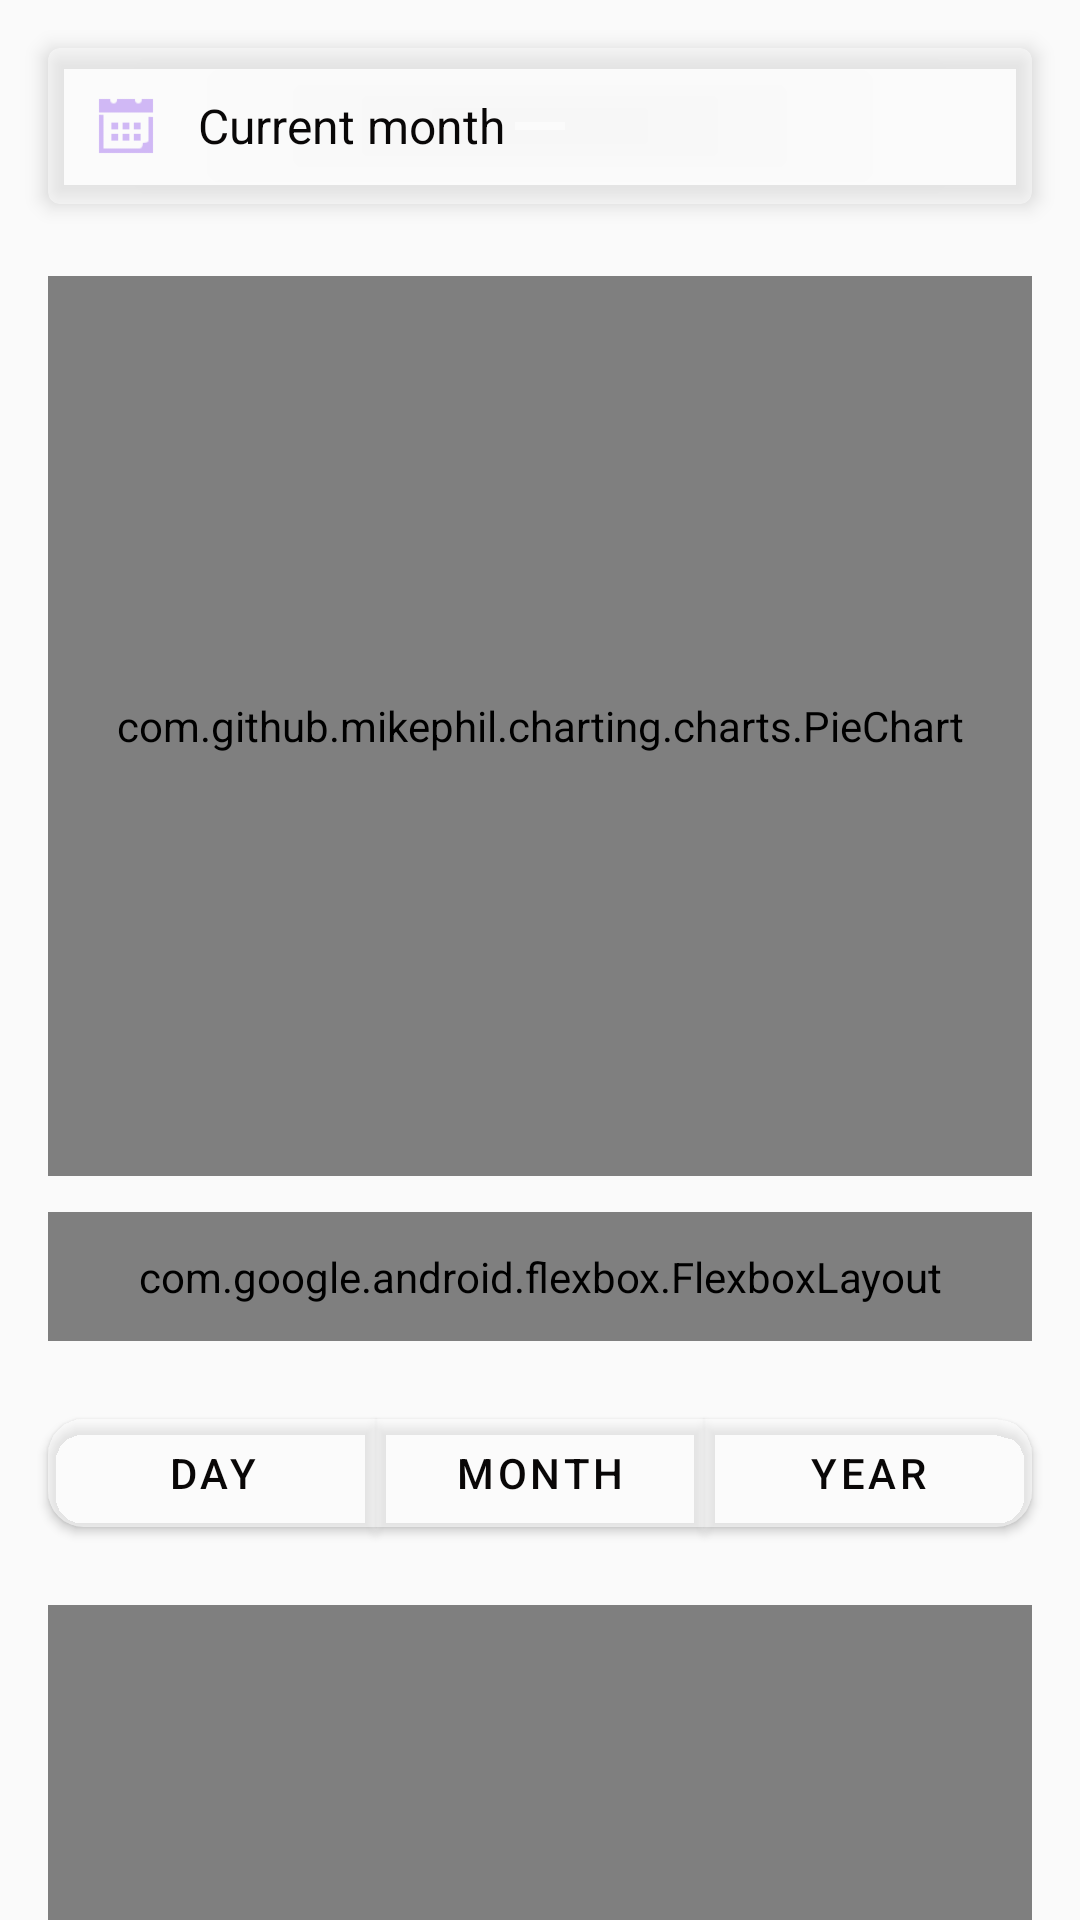

Icon bounding boxes for this 1080w x 1920h phone screenshot, format (x1, y1, x2, y2):
calendar: (99, 99, 153, 153)
